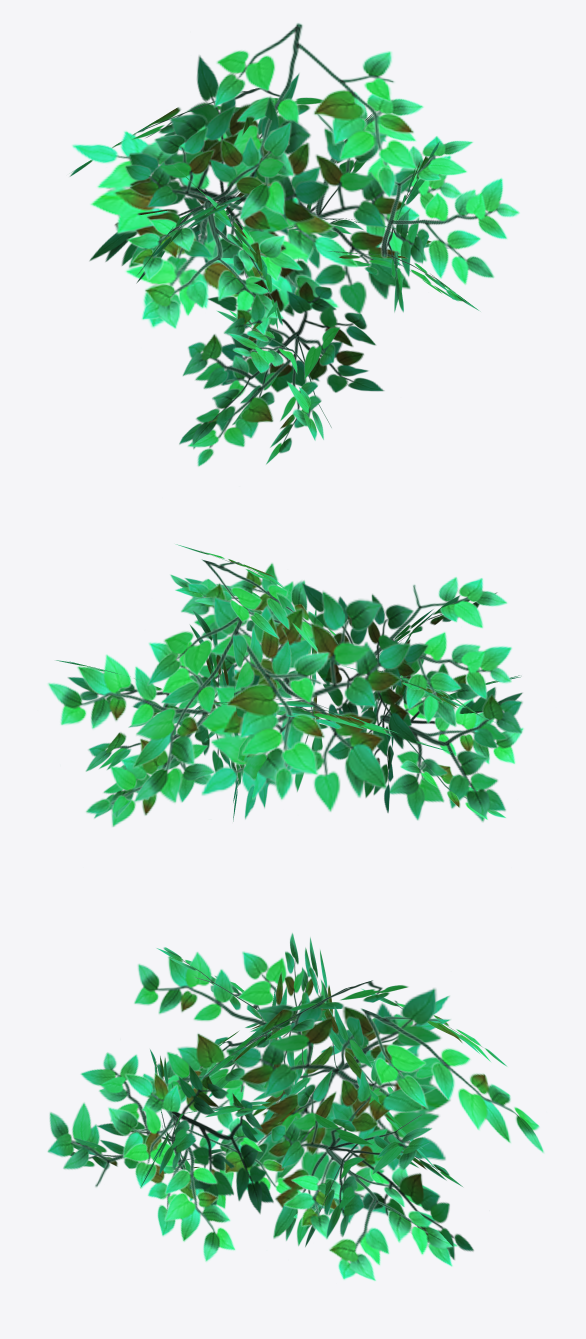
File: Leaf_P1.glb
3 renders of one model, top to bottom at view 1: azimuth 30°, elevation 25°; view 2: azimuth 150°, elevation 25°; view 3: azimuth 270°, elevation 25°, orthographic. The views are drawn at different scales.
Parts seen in each view (by area): view 1: Leaf_P1; view 2: Leaf_P1; view 3: Leaf_P1.
Part boxes in pixels (x1,y1,x2,y2): Leaf_P1: (69, 23, 519, 466); Leaf_P1: (47, 544, 523, 826); Leaf_P1: (47, 932, 544, 1281).
Bounding box in the file's own units: 2.23 × 1.55 × 2.34.
Materials: 1 (1 with a texture image).
